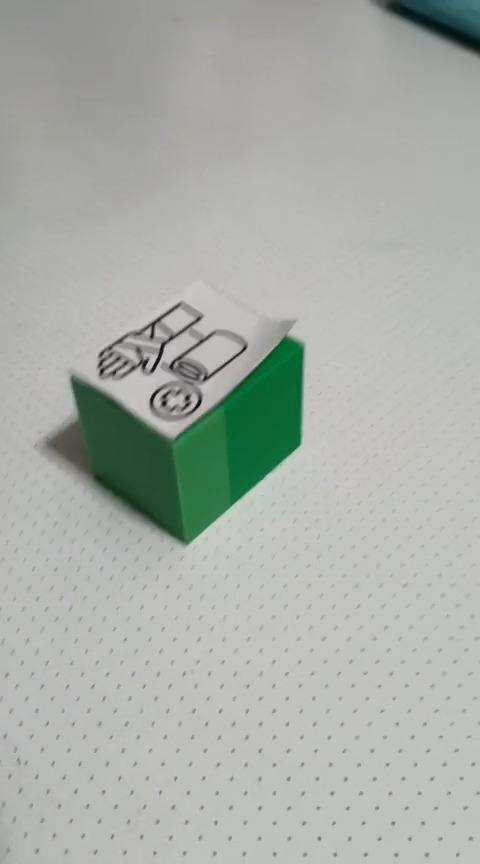Bandages: (67, 277, 305, 544)
